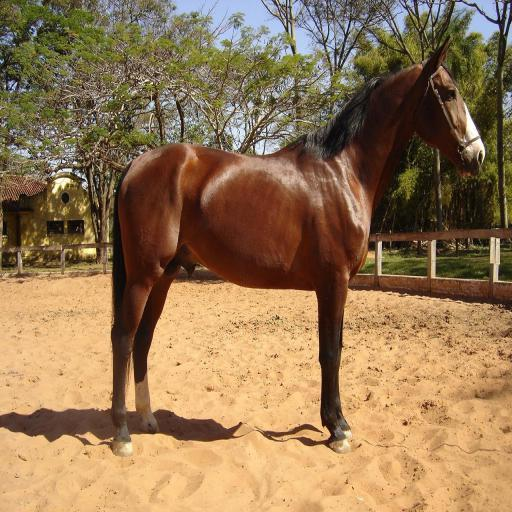Horse: (108, 34, 486, 460)
